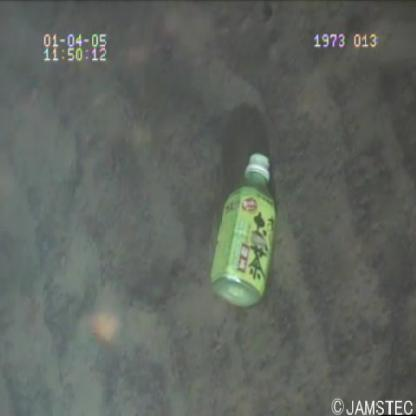Rác: (203, 141, 282, 315)
